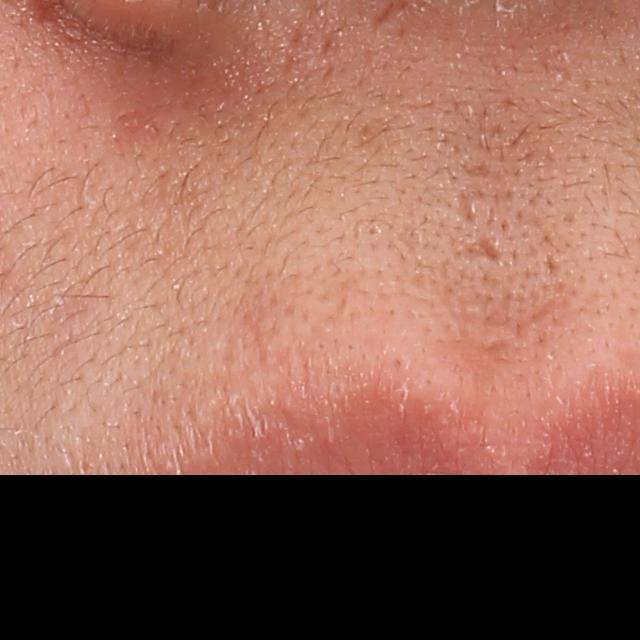atrophic_scar: (456, 284, 556, 338), (462, 234, 505, 266), (457, 192, 477, 226), (460, 163, 496, 177), (543, 253, 559, 281)
